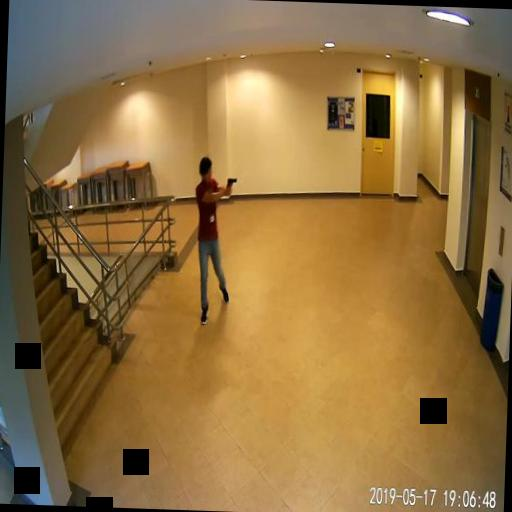Handgun: (224, 175, 235, 191)
